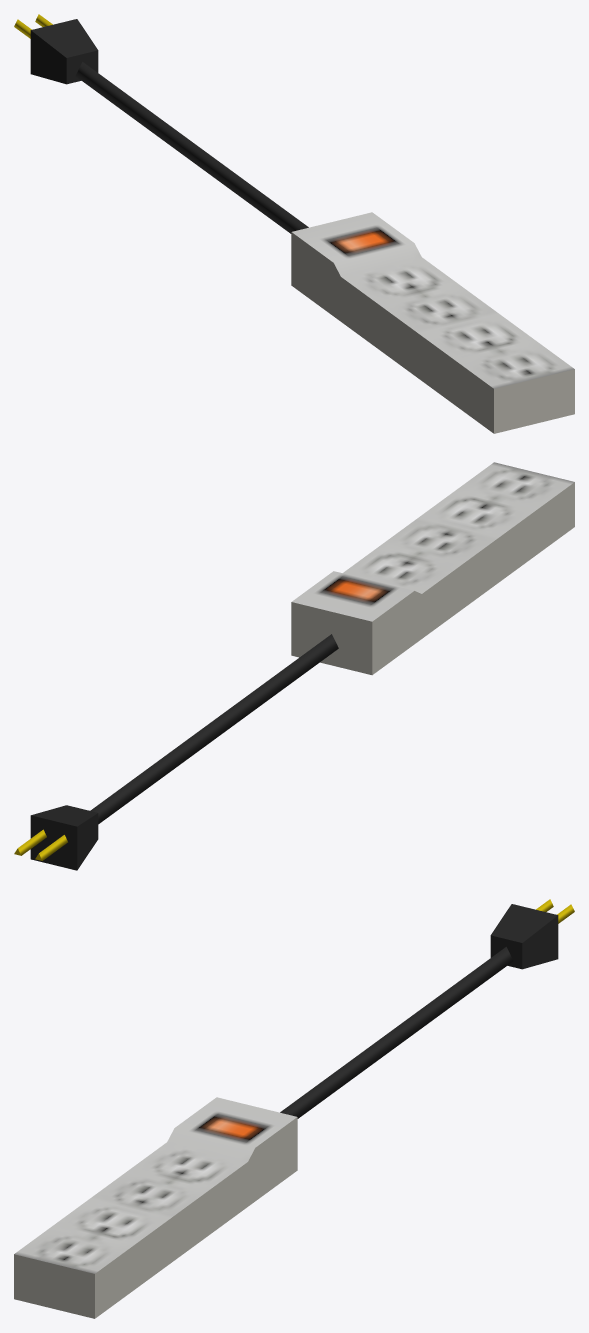
File: PowerStrip.fbx
3 renders of one model, top to bottom at view 1: azimuth 30°, elevation 25°; view 2: azimuth 150°, elevation 25°; view 3: azimuth 330°, elevation 25°, orthographic.
Parts seen in each view (by area): view 1: Maya_File_Assets:TexturedAssetsCurrent:QuentonAssets02:Power; view 2: Maya_File_Assets:TexturedAssetsCurrent:QuentonAssets02:Power; view 3: Maya_File_Assets:TexturedAssetsCurrent:QuentonAssets02:Power.
Boxes of the visible parts, x1,y1,x2,y2 form: Maya_File_Assets:TexturedAssetsCurrent:QuentonAssets02:Power: (14,14,574,433); Maya_File_Assets:TexturedAssetsCurrent:QuentonAssets02:Power: (14,462,574,870); Maya_File_Assets:TexturedAssetsCurrent:QuentonAssets02:Power: (14,899,574,1318).
Size of the model in its own units: 0.0704 by 0.0446 by 0.7637.
